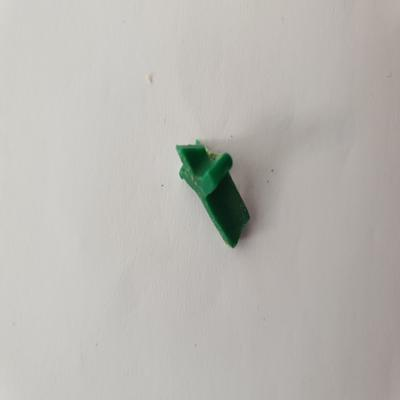plastic: (171, 136, 265, 255)
